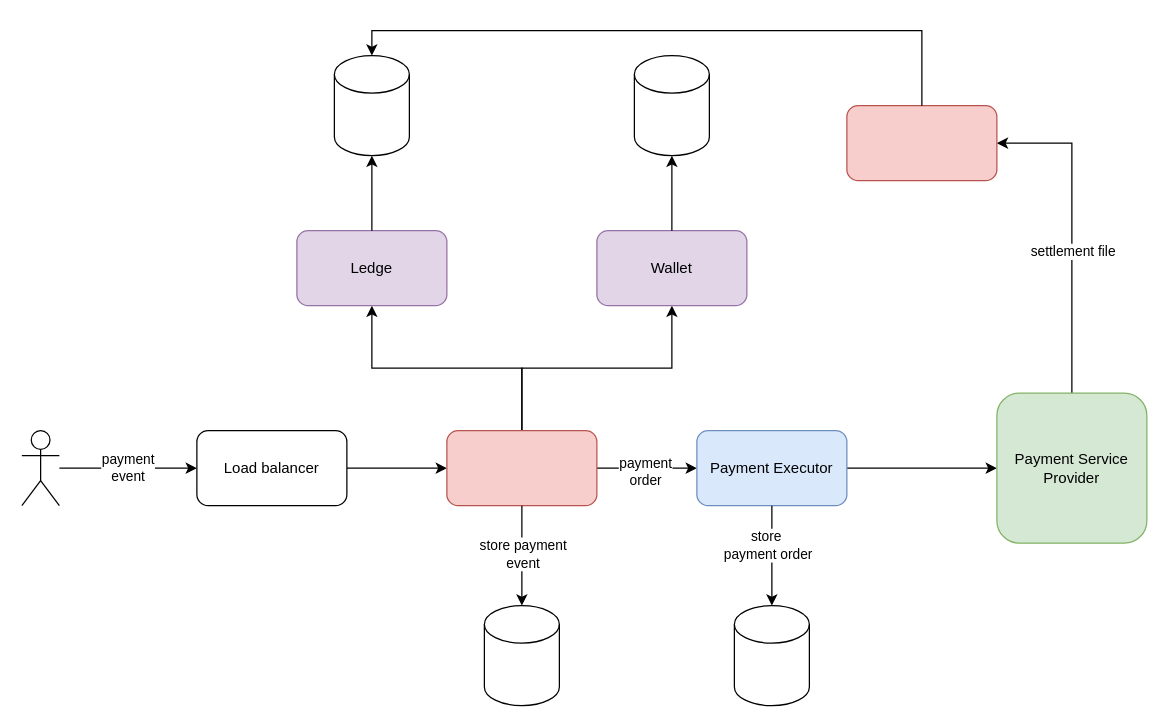
Image size: 1169x728. Some labels were removed from this diagram. The shapes that lost their labels are listed below. From the top down, each one's centre as x and y in pixels, then its label:
point 921,142: Reconciliation
point 40,467: Actor
point 521,467: Payment Service
